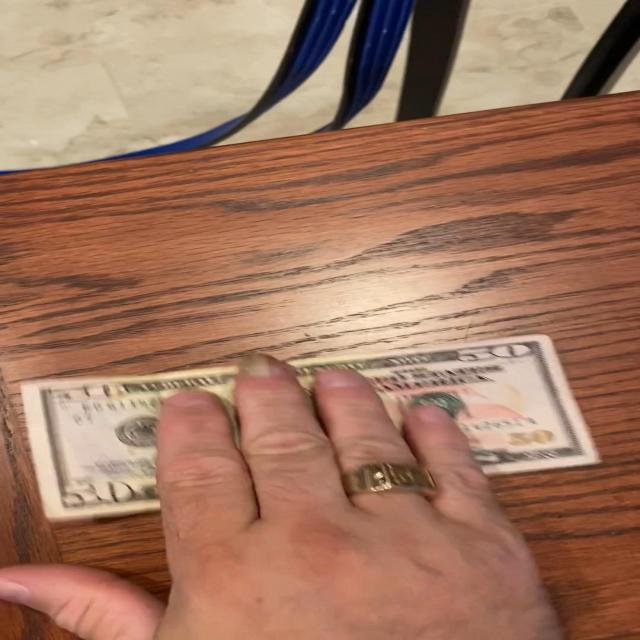50-Front: (15, 329, 617, 527)
